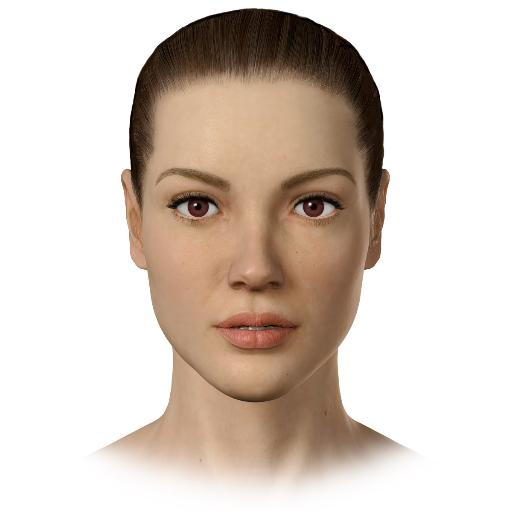left_eye: (288, 194, 345, 225)
left_lip_corner: (290, 321, 305, 335)
right_eye: (169, 194, 226, 226)
right_lip_corner: (209, 321, 225, 338)
